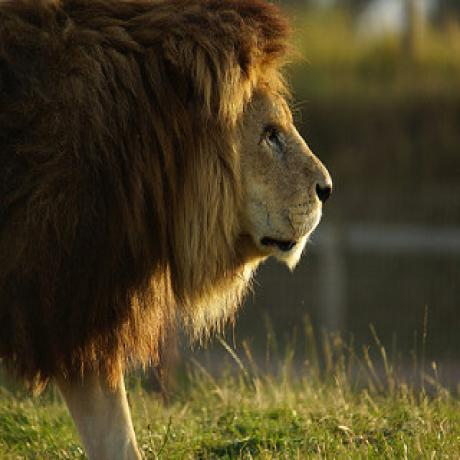Lion: (0, 0, 335, 460)
